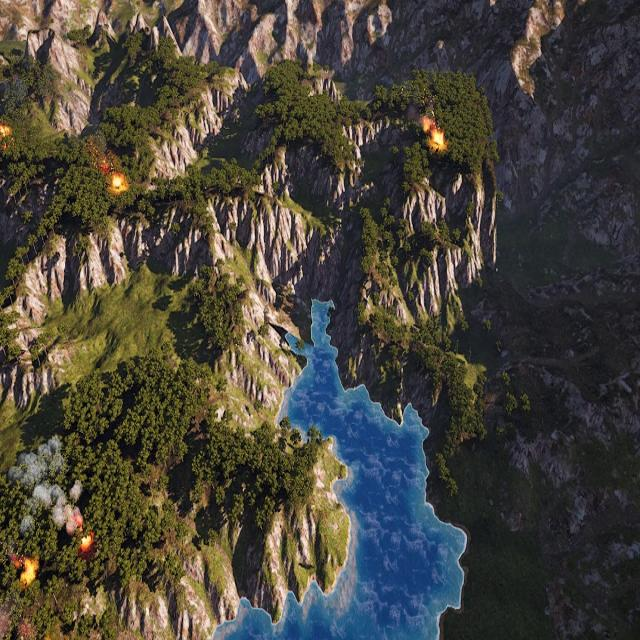fire: (422, 115, 447, 149), (15, 557, 38, 585), (0, 123, 13, 142), (111, 176, 125, 191), (80, 534, 92, 548)
smoke: (0, 433, 83, 539)
